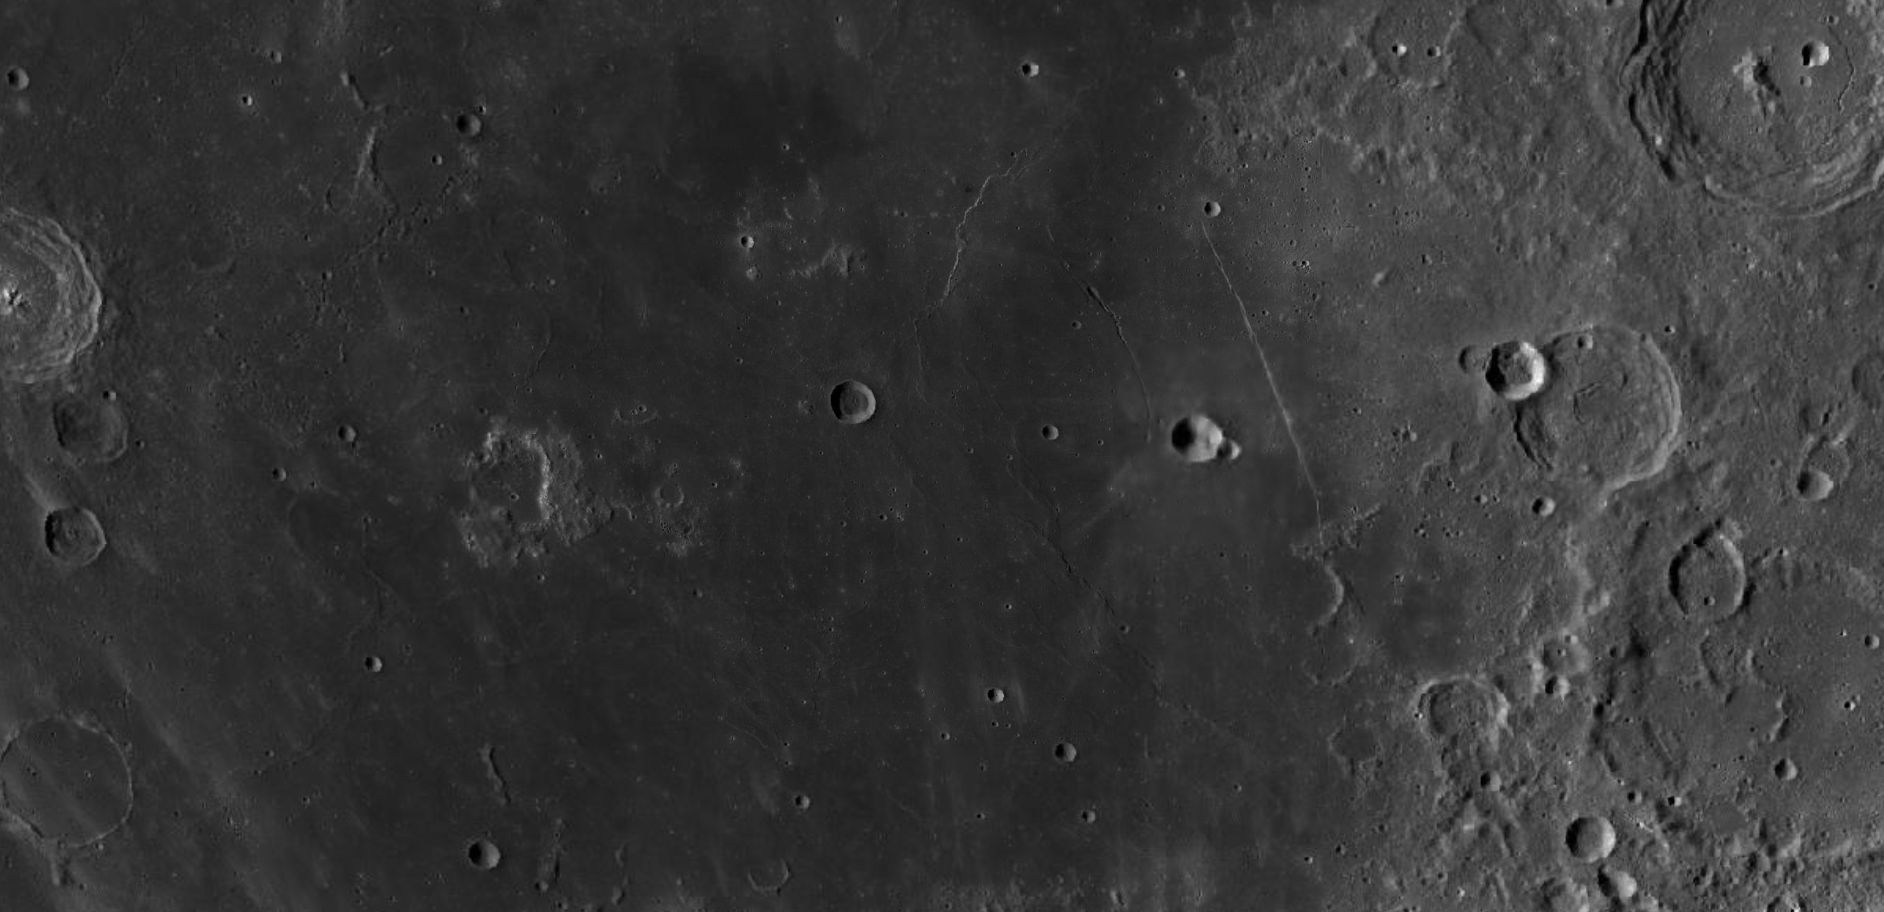crater: (1575, 2, 1884, 251), (1436, 310, 1706, 491), (1, 674, 175, 887), (944, 13, 1113, 156), (708, 726, 890, 854), (1095, 366, 1254, 502), (1642, 515, 1771, 640), (35, 376, 160, 478), (24, 491, 136, 595), (801, 351, 914, 440), (1038, 707, 1147, 788), (310, 400, 399, 477), (1534, 803, 1627, 868), (445, 825, 515, 893), (1781, 17, 1837, 73)
